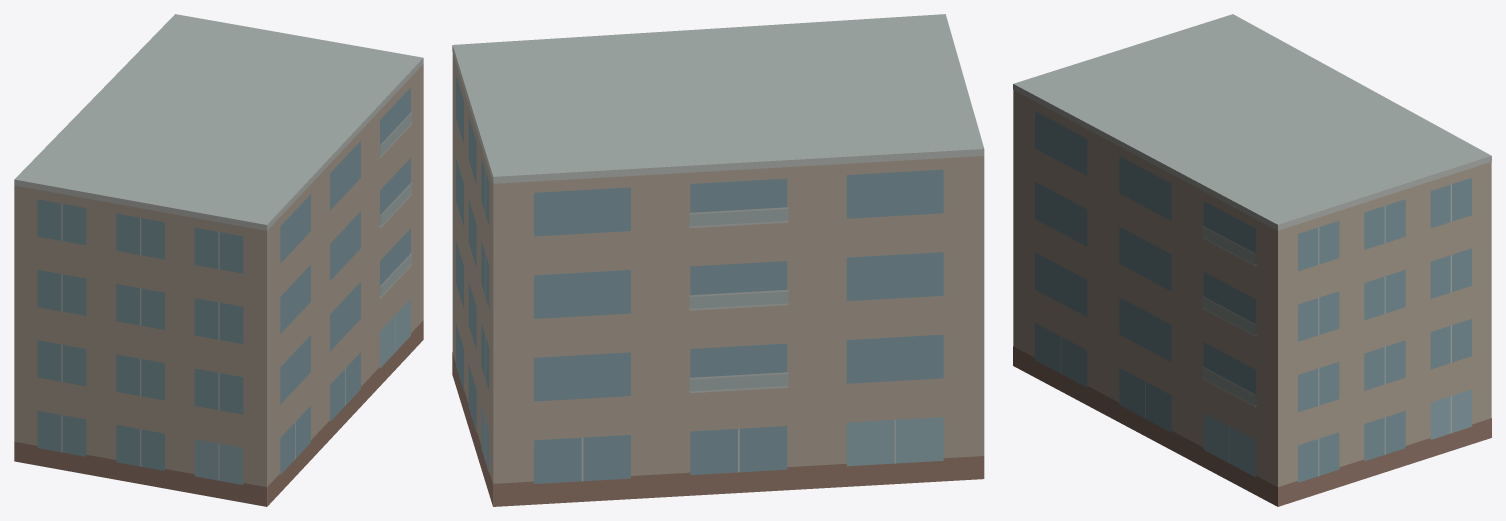
File: survey-upis-33008036.glb
The picture shows the model from 3 angles, left to right: view 1: azimuth 30°, elevation 25°; view 2: azimuth 150°, elevation 25°; view 3: azimuth 270°, elevation 25°; orthographic projection. The views are drawn at different scales.
Visible parts, largest first — view 1: survey-upis-33008036.tmp; view 2: survey-upis-33008036.tmp; view 3: survey-upis-33008036.tmp.
Part boxes in pixels (<box>): survey-upis-33008036.tmp: <box>14,14,423,506</box>; survey-upis-33008036.tmp: <box>452,14,984,506</box>; survey-upis-33008036.tmp: <box>1013,14,1491,506</box>.
Size of the model in its own units: 18.61 by 11.6 by 17.85.
